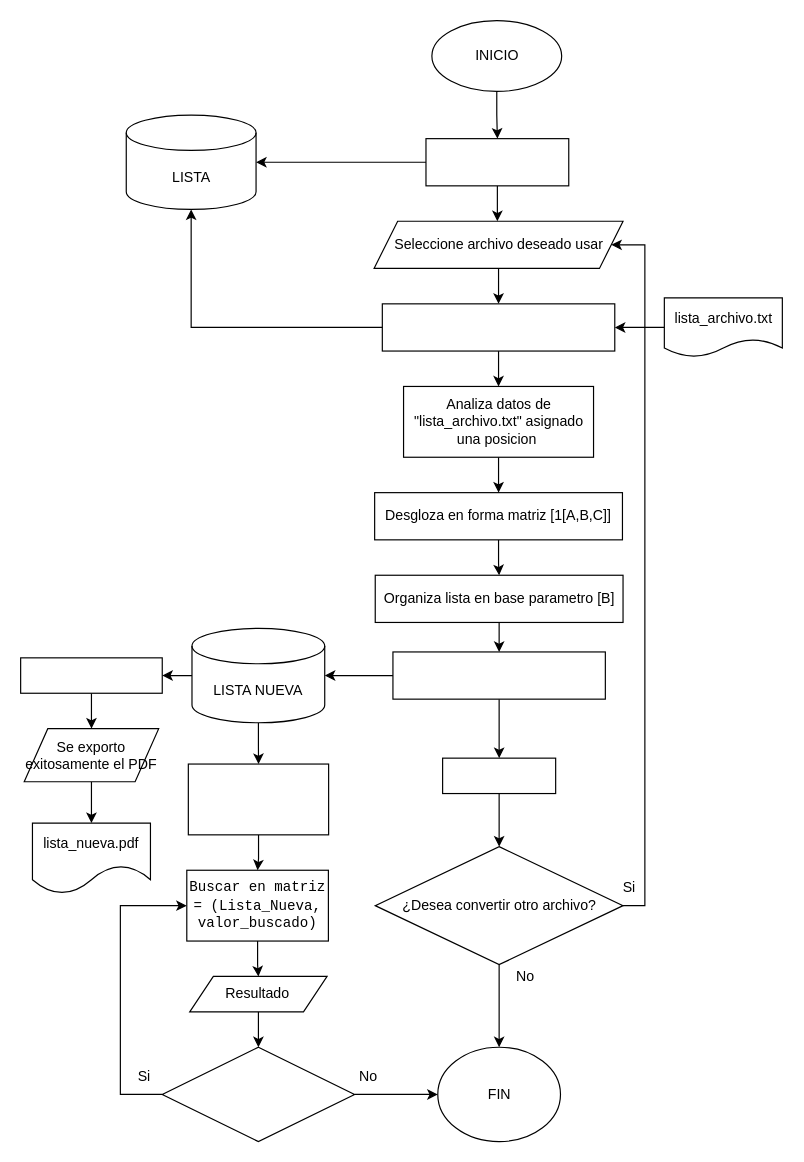
Image size: 804x1162. Some labels were removed from this diagram. Each missing label, with the box of its shape:
Base al orden guarda en "lista nueva" en formato ".pdf": (392, 651, 605, 699)
Establece "LISTA": (425, 137, 569, 186)
Guardar ".pdf" en carpeta "lista nueva": (19, 657, 162, 693)
Imprime: (441, 757, 556, 794)
Se establece Matriz = "Lista_Nueva": (187, 763, 329, 835)
Subir y leer "lista_archivo.txt": (381, 303, 615, 351)
¿Desea buscar otro valor?: (161, 1046, 355, 1142)
